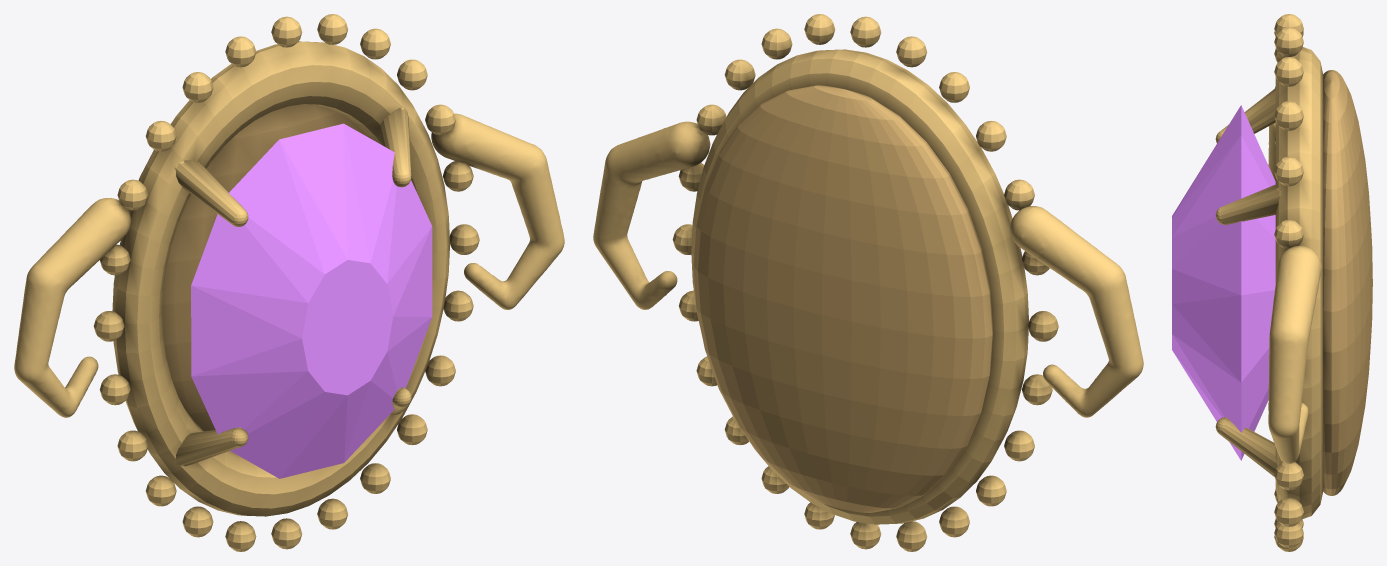
The model's file is emb_gema.glb.
The picture shows the model from 3 angles, left to right: view 1: azimuth 30°, elevation 25°; view 2: azimuth 150°, elevation 25°; view 3: azimuth 270°, elevation 25°; orthographic projection. The views are drawn at different scales.
Parts seen in each view (by area): view 1: emb_gema; view 2: emb_gema; view 3: emb_gema.
Boxes of the visible parts, <box> form: emb_gema: <box>14,14,564,551</box>; emb_gema: <box>593,14,1143,551</box>; emb_gema: <box>1172,14,1372,551</box>.
Bounding box in the file's own units: 0.1137 × 0.1055 × 0.0378.
